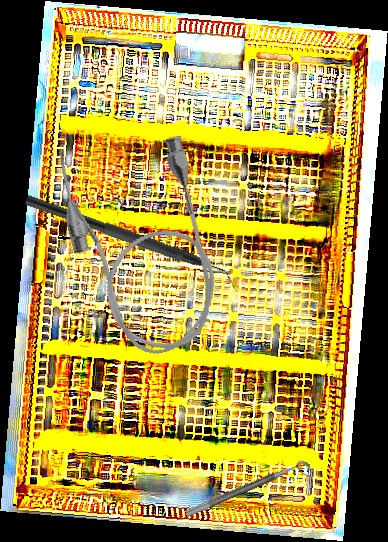Cannula: (48, 121, 234, 368)
Chopper: (18, 193, 248, 296)
Fixation Ring: (184, 457, 315, 529)
